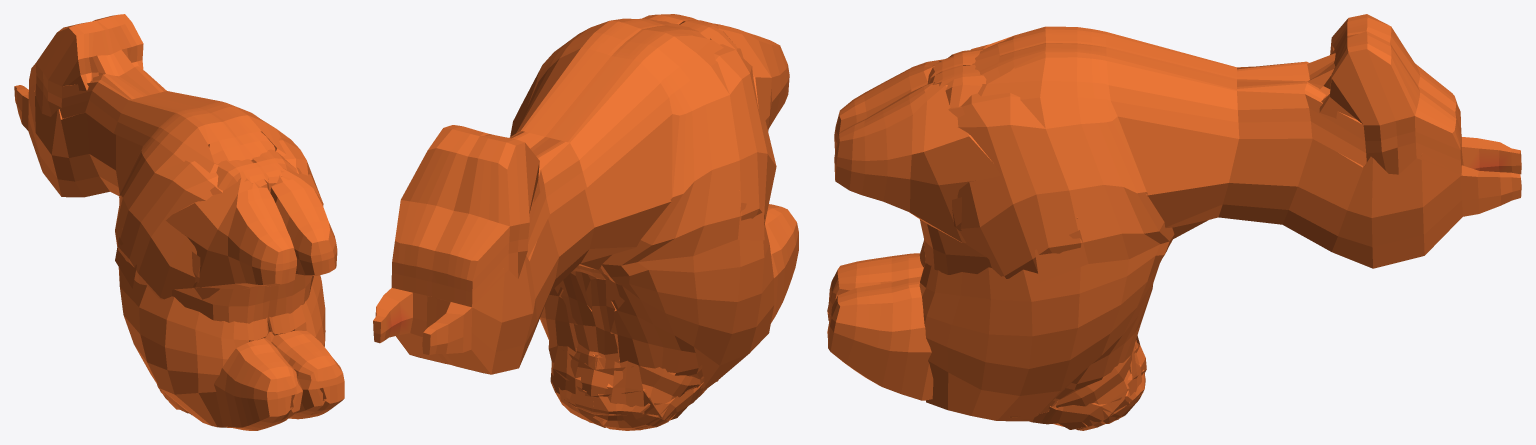
The model's file is llama-chunky.fbx.
The picture shows the model from 3 angles, left to right: view 1: azimuth 30°, elevation 25°; view 2: azimuth 150°, elevation 25°; view 3: azimuth 270°, elevation 25°; orthographic projection. The views are drawn at different scales.
Visible parts, largest first — view 1: Plane; view 2: Plane; view 3: Plane.
Part boxes in pixels (box(x1,y1,x2,y2)): Plane: box(14, 14, 344, 430); Plane: box(373, 14, 798, 430); Plane: box(827, 14, 1521, 430).
Size of the model in its own units: 122 by 191 by 310.
